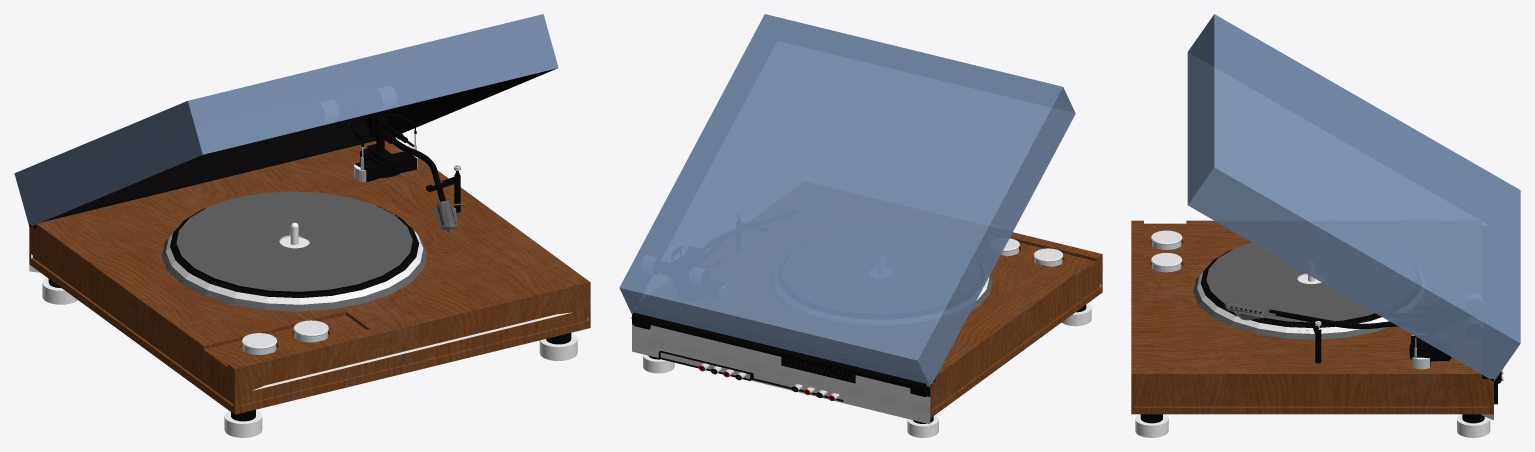
File: turntable.glb
3 views of the same model, side by side, from view 1: azimuth 30°, elevation 25°; view 2: azimuth 150°, elevation 25°; view 3: azimuth 270°, elevation 25° (orthographic). The views are drawn at different scales.
Visible parts, largest first — view 1: SketchUp.176_179, SketchUp.118_121, SketchUp.111_114, SketchUp.013_16, SketchUp.211_214, SketchUp.050_53, SketchUp.032_35, SketchUp.093_96, SketchUp.090_93, SketchUp.216_219, SketchUp.033_36, SketchUp.092_95 (+8 smaller); view 2: SketchUp.118_121, SketchUp.176_179, SketchUp.013_16, SketchUp.054_57, SketchUp.033_36, SketchUp.212_215, SketchUp.031_34, SketchUp.211_214, SketchUp.032_35, SketchUp.213_216, SketchUp.017_20; view 3: SketchUp.118_121, SketchUp.176_179, SketchUp.013_16, SketchUp.111_114, SketchUp.211_214, SketchUp.032_35, SketchUp.218_221, SketchUp.093_96, SketchUp.090_93, SketchUp.081_84, SketchUp.092_95, SketchUp.091_94 (+4 smaller).
Part boxes in pixels (box(x1,y1,x2,y2)): SketchUp.176_179: box(37, 140, 589, 368); SketchUp.118_121: box(14, 14, 558, 225); SketchUp.111_114: box(176, 191, 412, 291); SketchUp.013_16: box(29, 224, 590, 400); SketchUp.211_214: box(29, 229, 590, 409); SketchUp.050_53: box(251, 300, 573, 390); SketchUp.032_35: box(29, 260, 590, 414); SketchUp.093_96: box(161, 226, 427, 311); SketchUp.090_93: box(170, 216, 418, 297); SketchUp.216_219: box(237, 317, 587, 406); SketchUp.033_36: box(29, 137, 376, 228); SketchUp.092_95: box(168, 206, 421, 301); SketchUp.118_121: box(619, 14, 1075, 387); SketchUp.176_179: box(934, 232, 1102, 380); SketchUp.013_16: box(781, 254, 1102, 406); SketchUp.054_57: box(632, 324, 930, 406); SketchUp.033_36: box(631, 312, 935, 396); SketchUp.212_215: box(632, 334, 930, 414); SketchUp.031_34: box(632, 342, 930, 424); SketchUp.211_214: box(930, 281, 1102, 414); SketchUp.032_35: box(930, 289, 1102, 418); SketchUp.213_216: box(931, 285, 1100, 411); SketchUp.017_20: box(658, 350, 843, 401); SketchUp.118_121: box(1187, 14, 1520, 381); SketchUp.176_179: box(1131, 220, 1480, 373); SketchUp.013_16: box(1131, 374, 1493, 401); SketchUp.111_114: box(1206, 242, 1374, 322); SketchUp.211_214: box(1131, 401, 1493, 410); SketchUp.032_35: box(1131, 410, 1493, 414); SketchUp.218_221: box(1134, 404, 1491, 407); SketchUp.093_96: box(1193, 266, 1389, 339); SketchUp.090_93: box(1200, 258, 1381, 327); SketchUp.081_84: box(1269, 309, 1397, 328); SketchUp.092_95: box(1199, 249, 1384, 330); SketchUp.091_94: box(1197, 265, 1388, 333).
Bounding box in the file's own units: 3.11 × 2.57 × 3.33.
22 materials, 1 textured.
